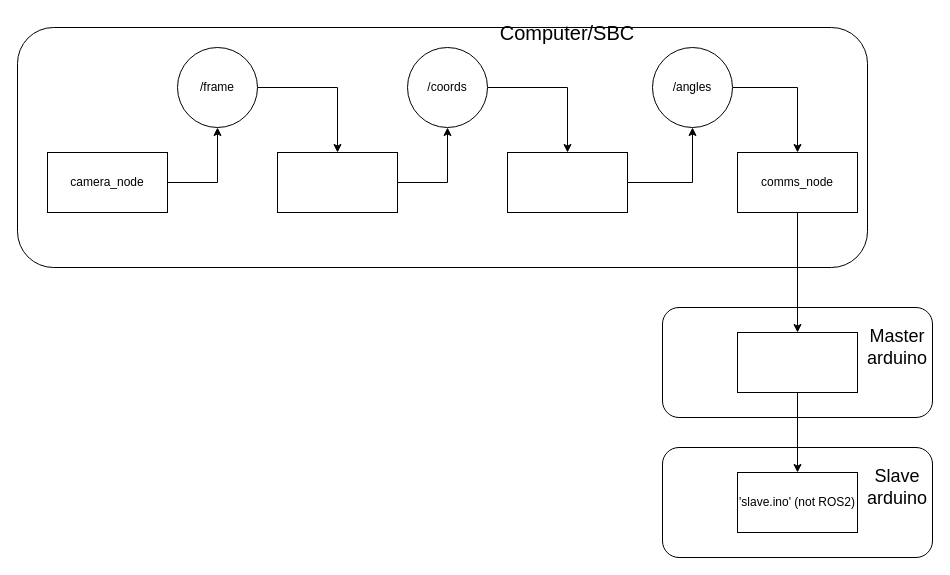
This 950x575 diagram has some shape labels left out. The centre of each missing label's shape, as x and y in pixels:
'master.ino' (not ROS2): the point at 797,362
ik_node: the point at 567,182
vision_node: the point at 337,182
